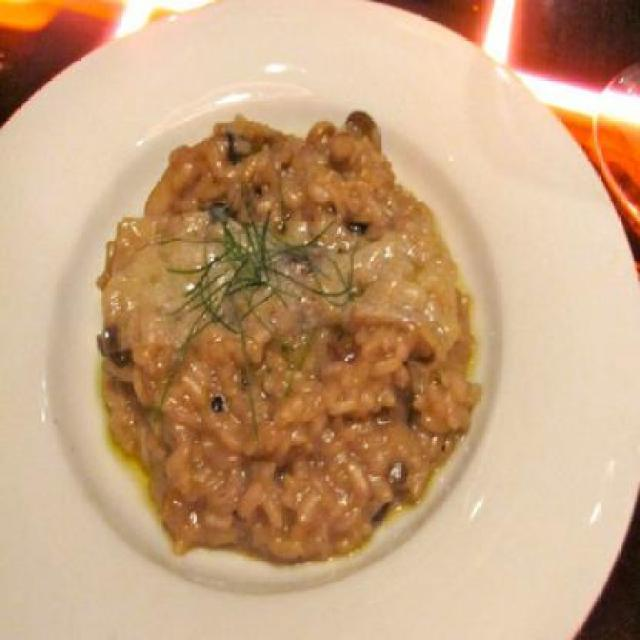Risotto: (93, 100, 464, 538)
